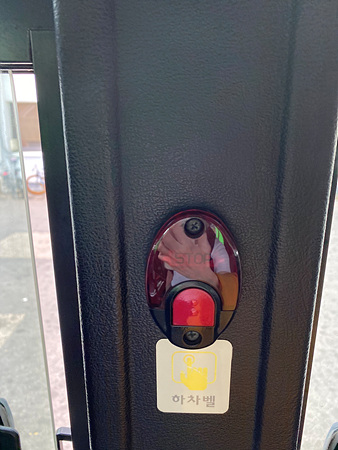bell: (145, 208, 240, 348)
